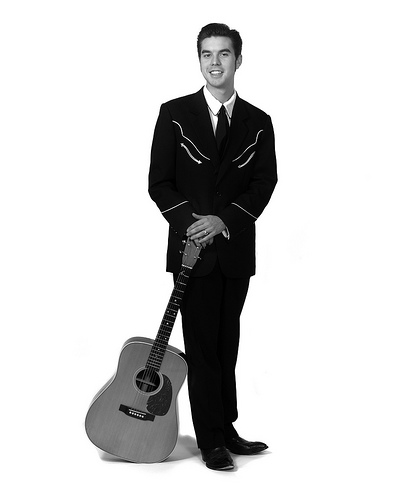guitar: (85, 227, 208, 463)
